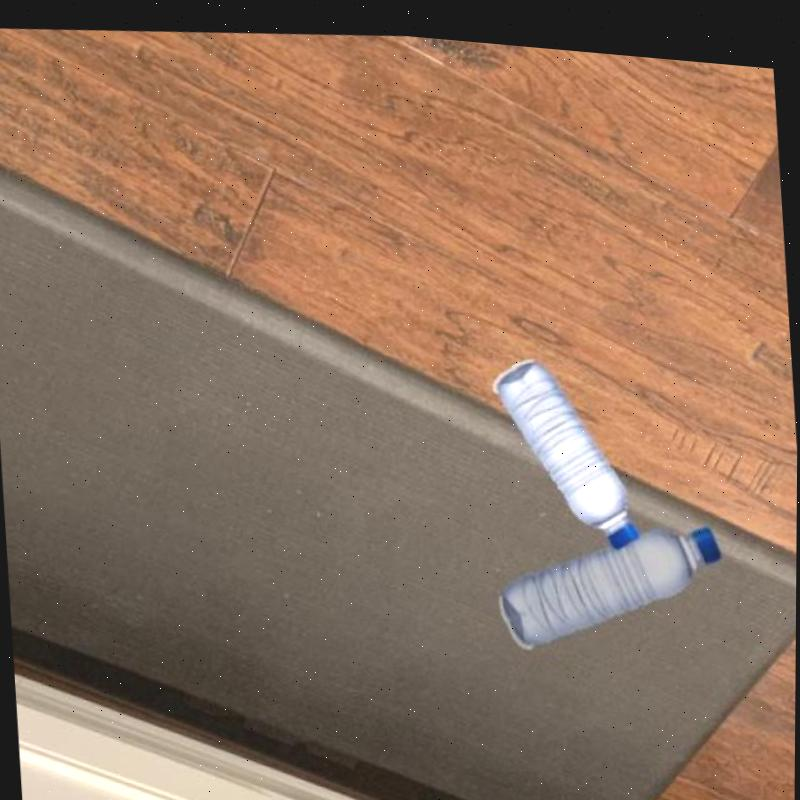botella: (493, 496, 726, 652), (489, 335, 648, 547)
